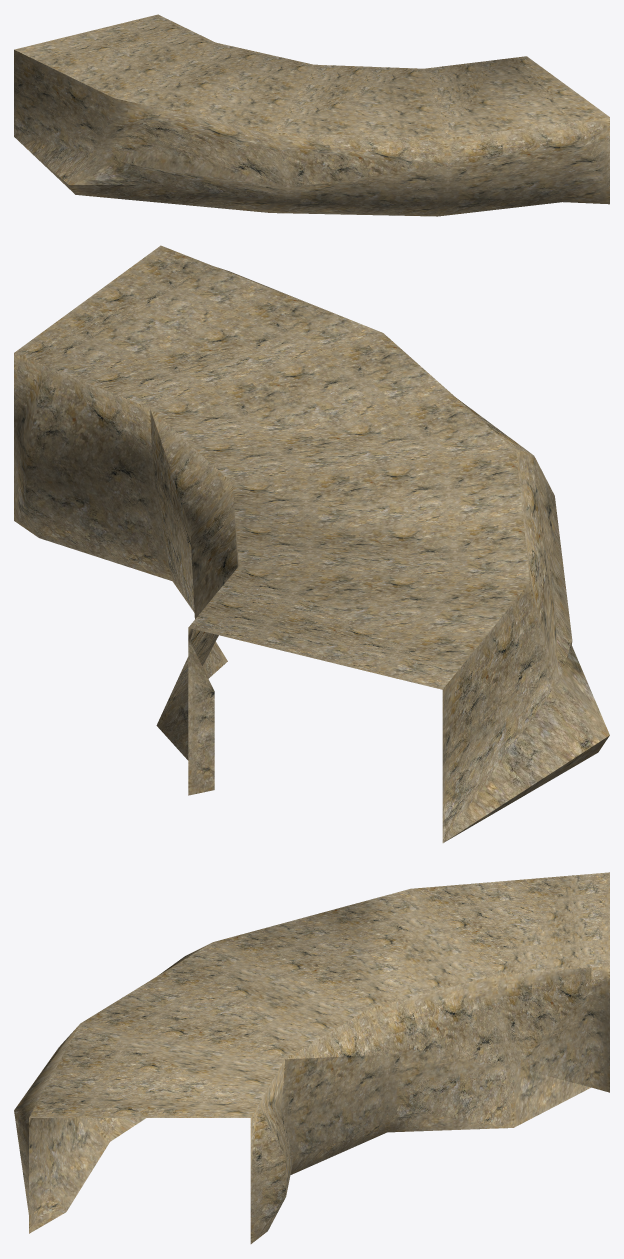
File: pir_m_are_cav_curveWideLeftVista.fbx
3 renders of one model, top to bottom at view 1: azimuth 30°, elevation 25°; view 2: azimuth 150°, elevation 25°; view 3: azimuth 270°, elevation 25°, orthographic. The views are drawn at different scales.
Parts seen in each view (by area): view 1: standardCurveWide_left_floor; view 2: standardCurveWide_left_floor; view 3: standardCurveWide_left_floor.
Boxes of the visible parts, <box> form: standardCurveWide_left_floor: <box>14,14,609,216</box>; standardCurveWide_left_floor: <box>14,245,609,842</box>; standardCurveWide_left_floor: <box>14,872,609,1243</box>.
Bounding box in the file's own units: 19516 × 4461 × 19016.
1 material, 1 textured.
